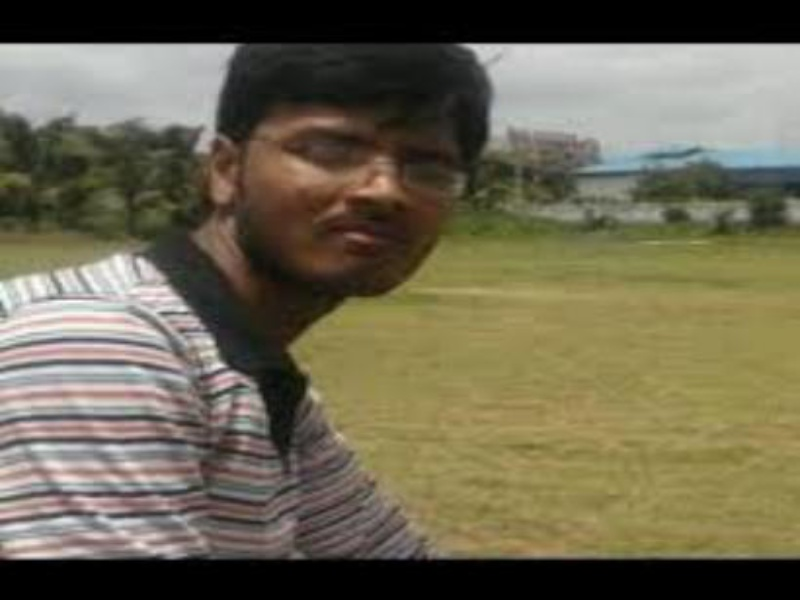TsisyArotava: (180, 37, 499, 308)
